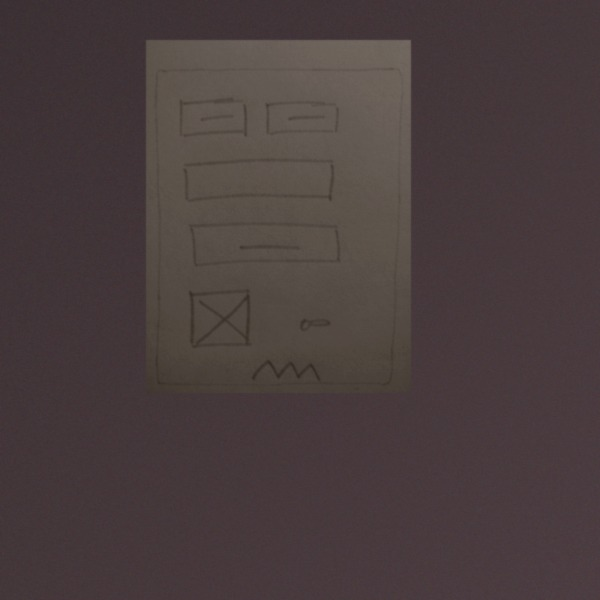button: (181, 218, 350, 270), (261, 96, 345, 139), (174, 95, 252, 140)
image: (184, 284, 261, 352)
switch: (293, 312, 336, 335)
text: (248, 356, 323, 382)
text_input: (173, 154, 347, 207)
